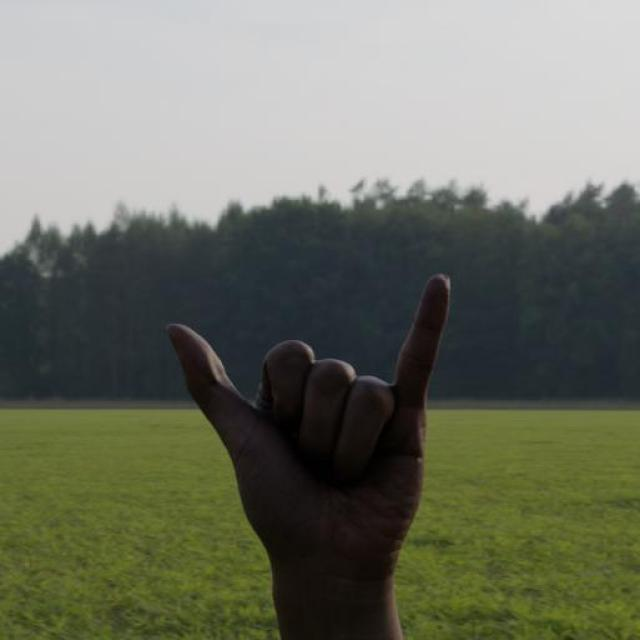Y: (162, 271, 454, 567)
